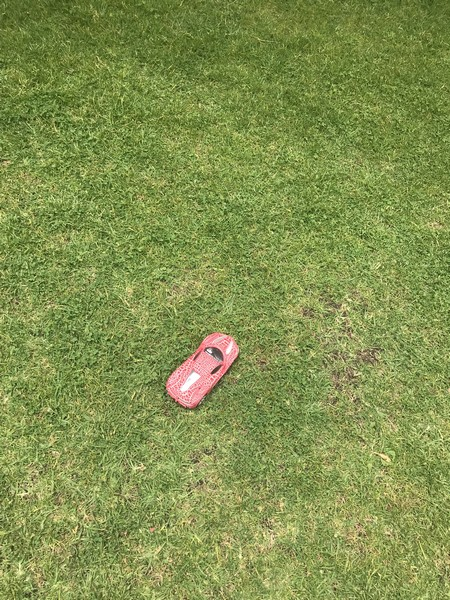RC: (163, 329, 242, 408)
